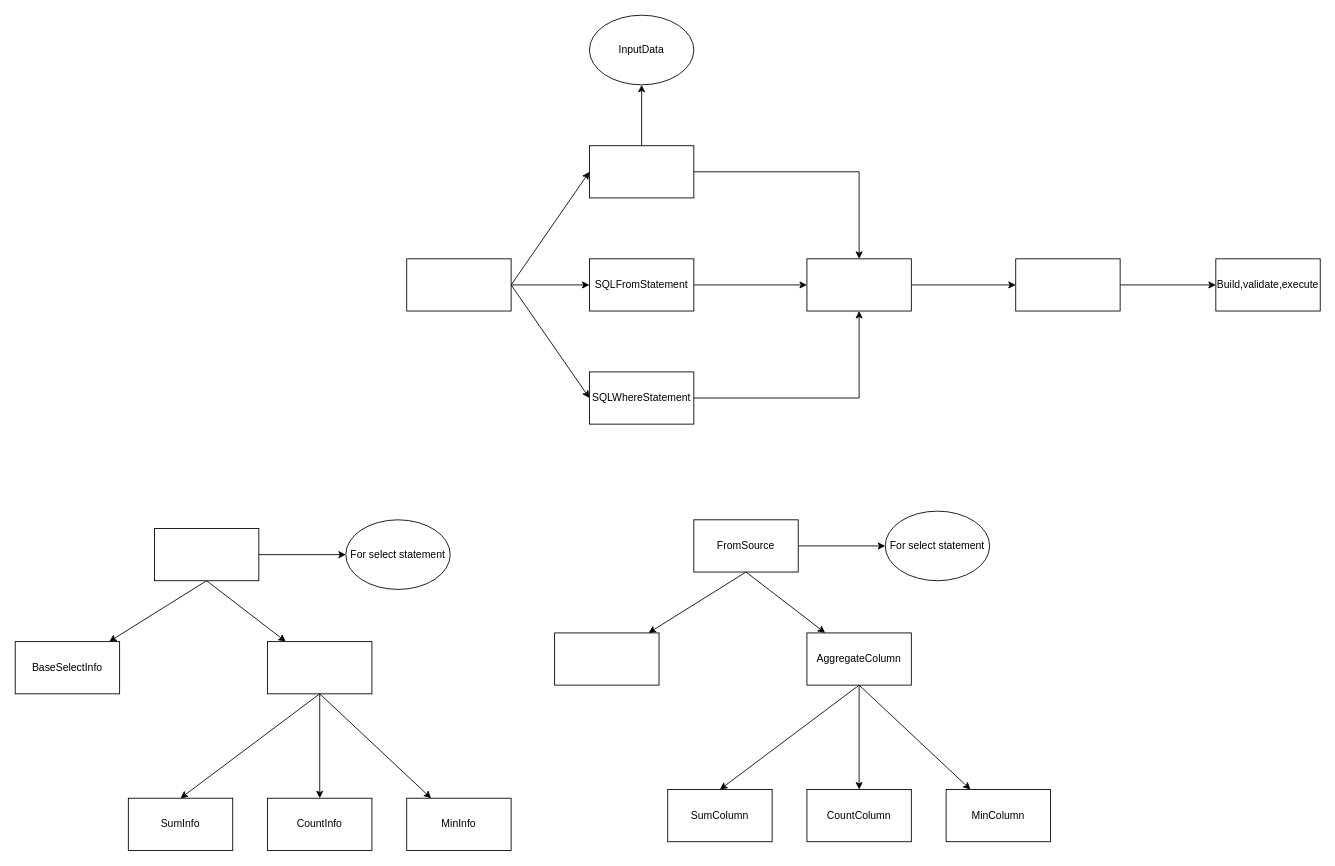
Image size: 1335x866. Some labels were removed from this diagram. Here are the shapes that lost their labels. From the top down, the centre of each, then its label:
At (641,171): "SQLSelectStatement".
At (458,284): "QueryData".
At (858,284): "SQLStatement".
At (1067,284): "SQLEngine".
At (206,554): "SelectInfo".
At (319,667): "AggregateSelectInfo".
At (606,658): "BaseSource".
